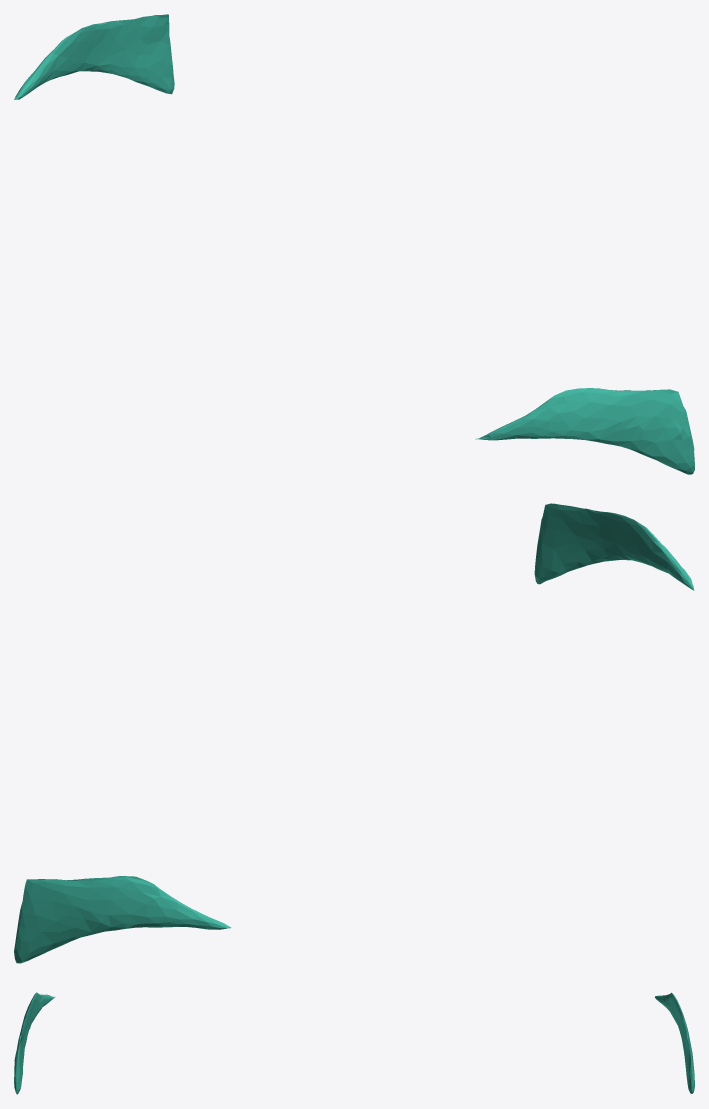
3 views of the same model, one above another, from view 1: azimuth 30°, elevation 25°; view 2: azimuth 150°, elevation 25°; view 3: azimuth 270°, elevation 25° (orthographic). The views are drawn at different scales.
Parts seen in each view (by area): view 1: 1010.obj; view 2: 1010.obj; view 3: 1010.obj.
Part boxes in pixels (left/top/right/bottom): 1010.obj: left=14, top=14, right=694, bottom=474; 1010.obj: left=14, top=503, right=694, bottom=963; 1010.obj: left=14, top=992, right=694, bottom=1094.
Size of the model in its own units: 1970 by 1016 by 9426.
